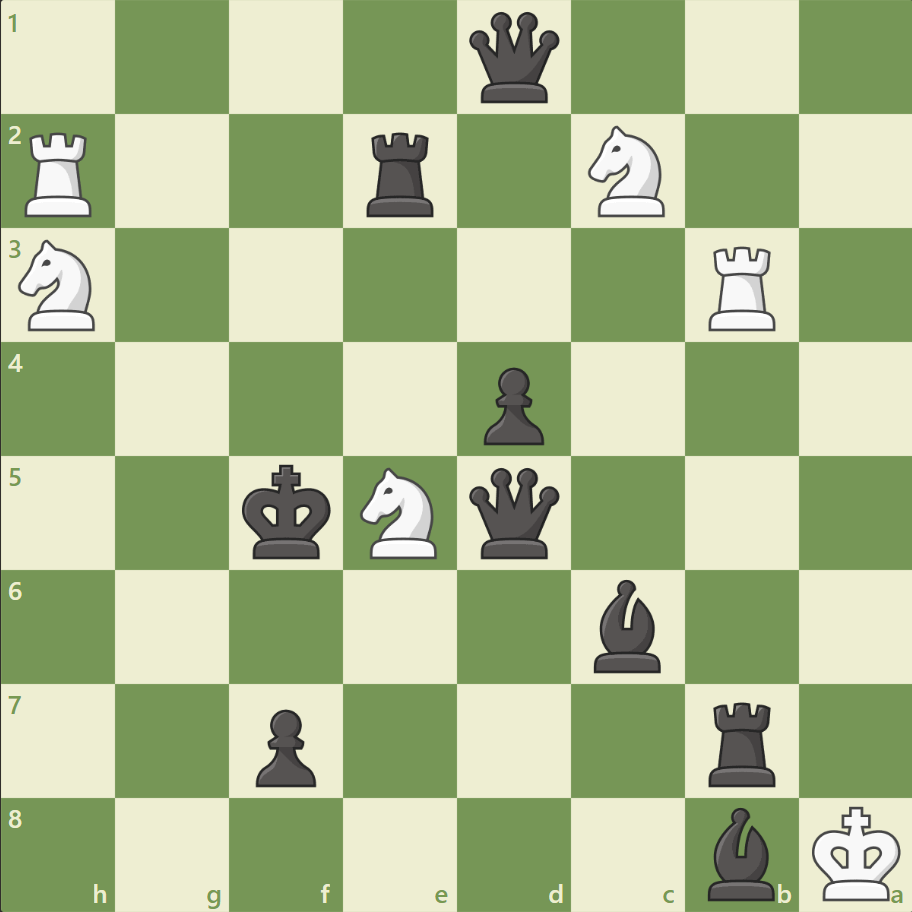K: (806, 798, 906, 906)
N: (351, 461, 449, 564), (11, 234, 108, 337), (579, 121, 676, 223)
R: (700, 239, 783, 336), (19, 125, 102, 222)
b: (698, 801, 782, 904), (585, 574, 669, 676)
k: (238, 458, 338, 566)
p: (247, 700, 322, 791), (474, 359, 549, 450)
q: (464, 463, 563, 562), (464, 9, 563, 108)
r: (700, 693, 783, 790), (360, 125, 442, 222)
